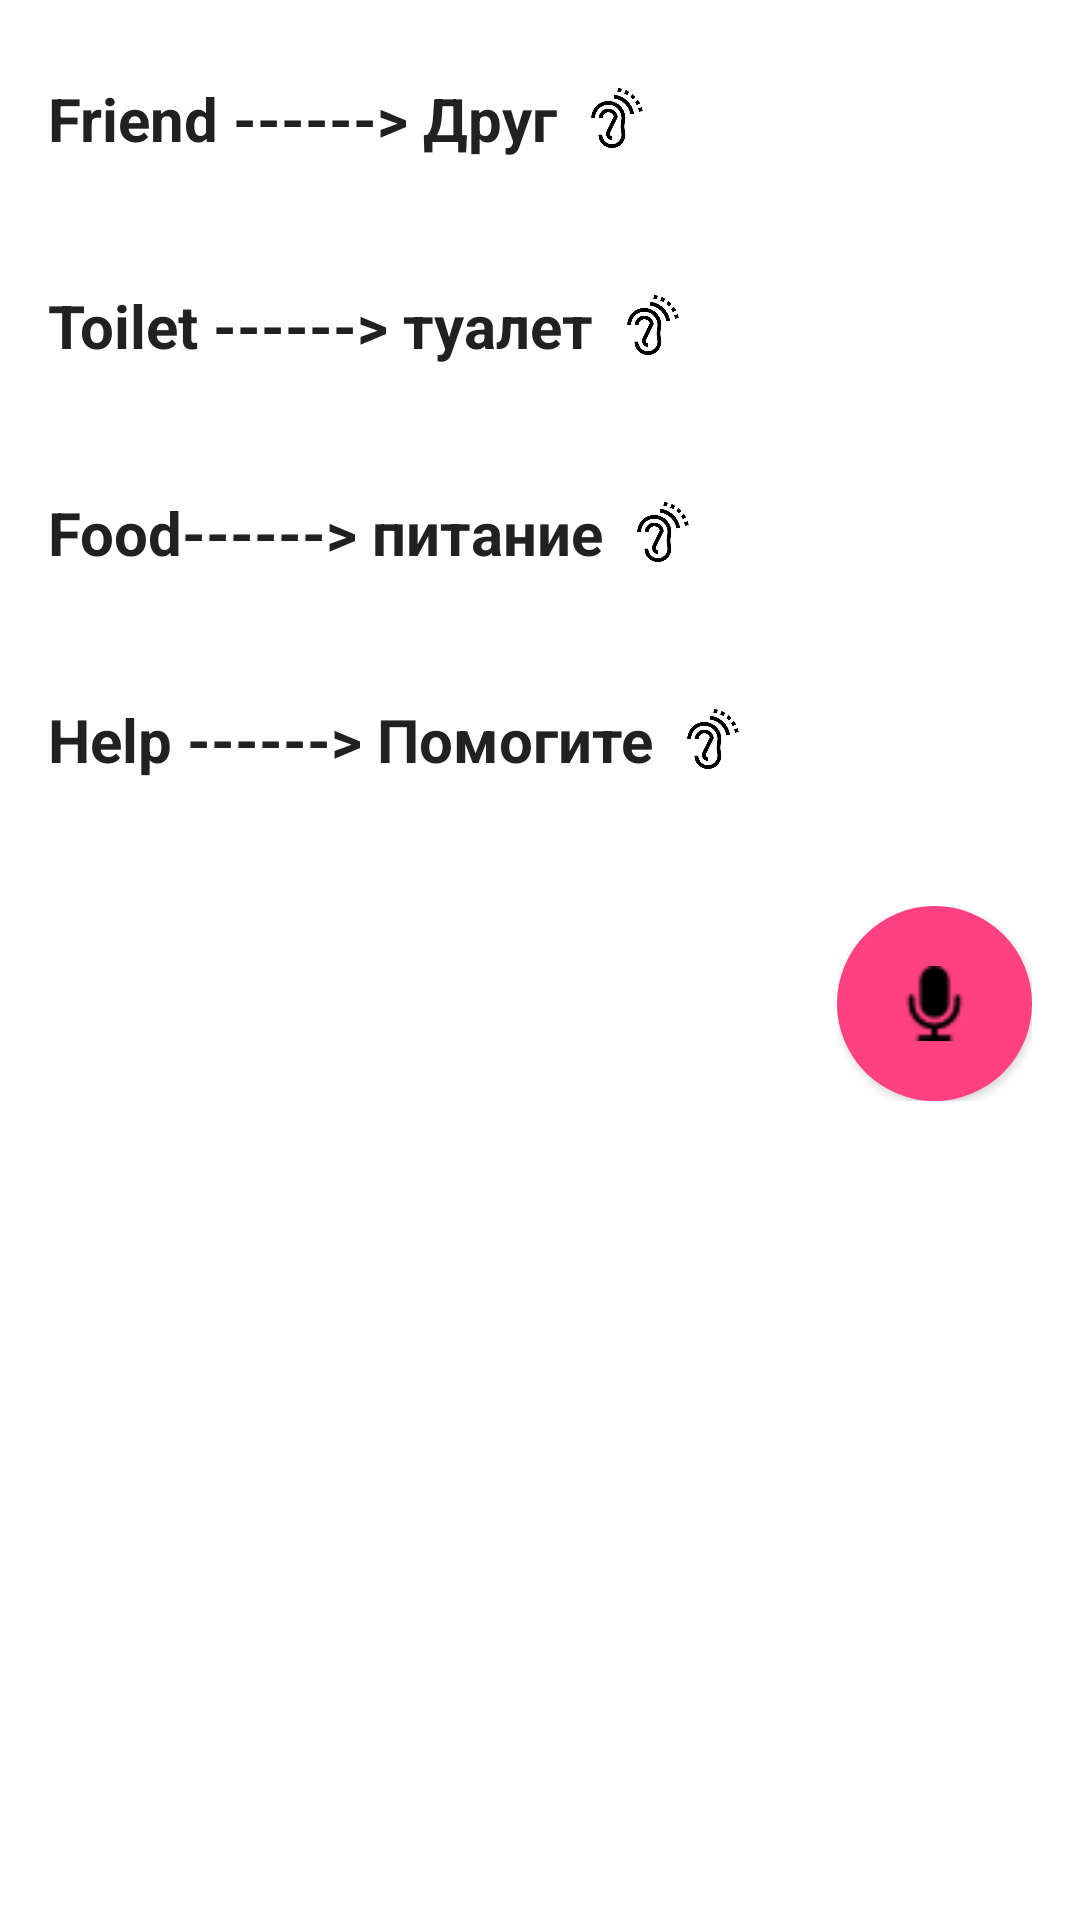

Locate icon controls on the screen. Image size 1080px×1920px, boxes as [x1,y1,x2,y2].
listening: [591,88,643,148], [627,295,679,355], [637,502,689,562], [687,709,739,769]
